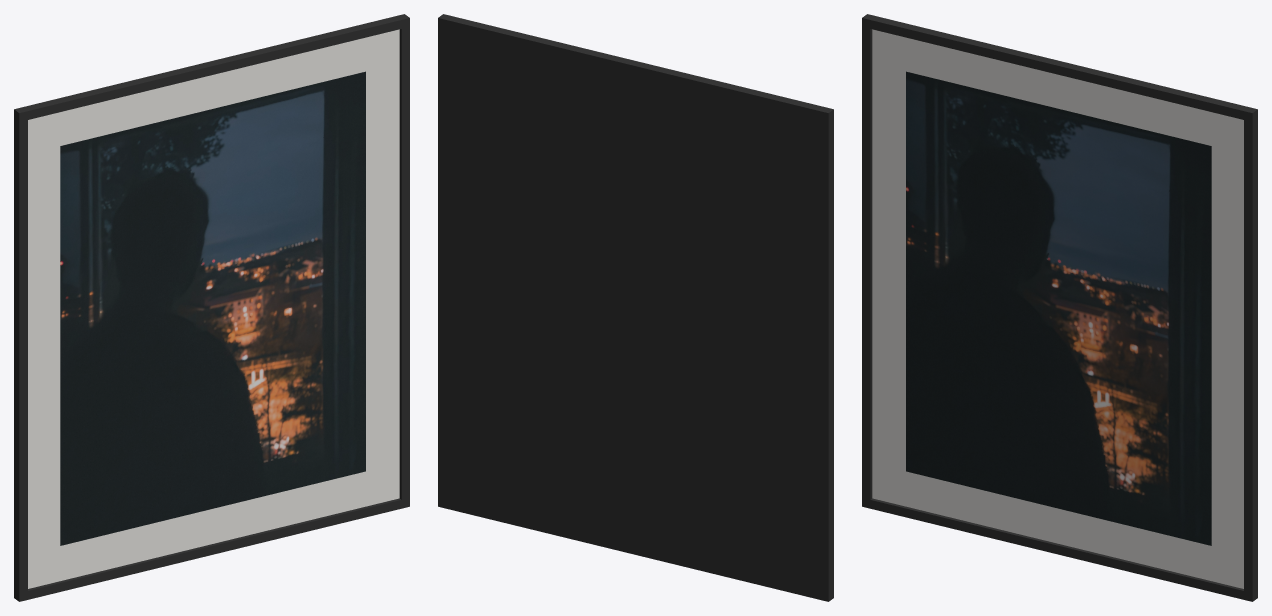
Rendered from utsikten-90.gltf.
3 renders of one model, left to right at view 1: azimuth 30°, elevation 25°; view 2: azimuth 150°, elevation 25°; view 3: azimuth 330°, elevation 25°, orthographic.
Visible parts, largest first — view 1: tavla; view 2: tavla; view 3: tavla.
Boxes of the visible parts, x1,y1,x2,y2 form: tavla: (14, 14, 409, 601); tavla: (438, 14, 833, 601); tavla: (862, 14, 1257, 601).
Size of the model in its own units: 0.92 by 1.1 by 0.022.
Materials: 3 (1 with a texture image).
